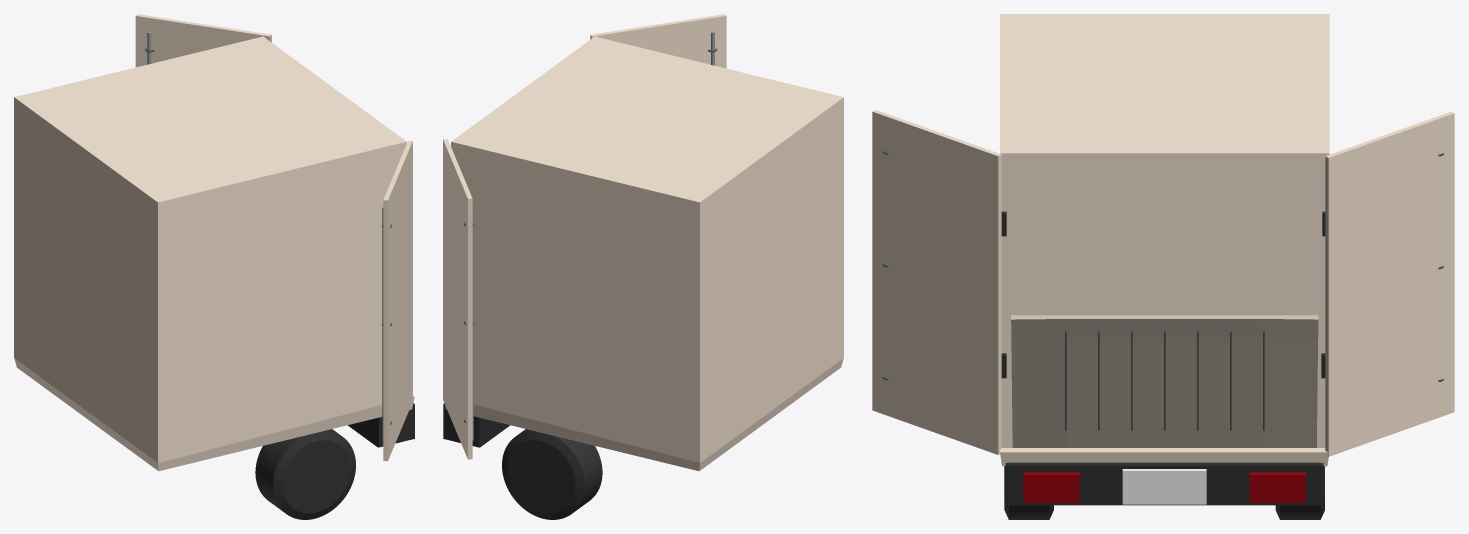
Rendered from truckRyulMade17.fbx.
3 views of the same model, side by side, from view 1: azimuth 30°, elevation 25°; view 2: azimuth 150°, elevation 25°; view 3: azimuth 270°, elevation 25° (orthographic). The views are drawn at different scales.
Parts seen in each view (by area): view 1: TruckStorage, LeftDoor, wheel, RightDoor, Lamphead; view 2: TruckStorage, RightDoor, wheel.001, LeftDoor, Lamphead, doorHand.002; view 3: TruckStorage, LeftDoor, RightDoor, Lamphead, numberZone, BackHeadLight, BackHeadLight.001, wheel.001, wheel.
Part boxes in pixels (box(x1,y1,x2,y2)): TruckStorage: box(14, 36, 414, 471); LeftDoor: box(383, 140, 412, 461); wheel: box(255, 429, 355, 519); RightDoor: box(135, 14, 271, 67); Lamphead: box(348, 403, 414, 447); TruckStorage: box(445, 36, 843, 471); RightDoor: box(443, 139, 472, 459); wheel.001: box(502, 429, 602, 519); LeftDoor: box(590, 14, 726, 68); Lamphead: box(443, 403, 509, 447); doorHand.002: box(472, 205, 473, 440); TruckStorage: box(1000, 14, 1329, 466); LeftDoor: box(872, 110, 1001, 454); RightDoor: box(1325, 111, 1454, 456); Lamphead: box(1005, 462, 1323, 505); numberZone: box(1122, 469, 1206, 504); BackHeadLight: box(1023, 472, 1079, 502); BackHeadLight.001: box(1249, 472, 1305, 502); wheel.001: box(1275, 466, 1324, 519); wheel: box(1004, 466, 1053, 519).
Size of the model in its own units: 213 by 275 by 353.
